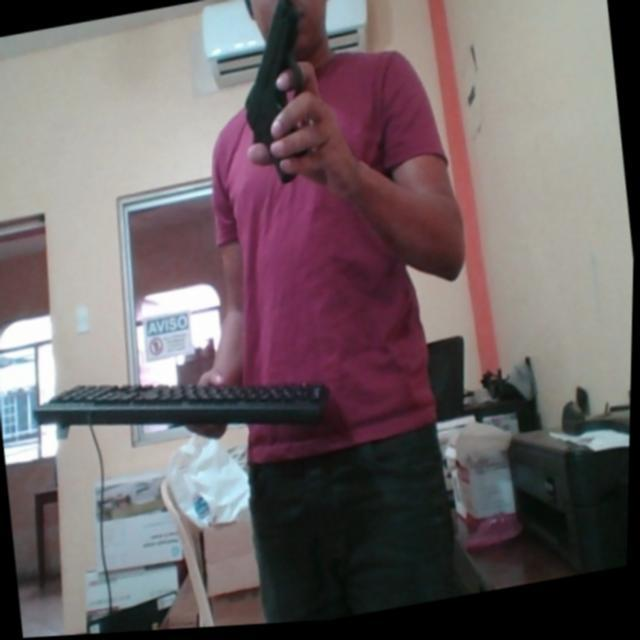weapon: (228, 0, 322, 195)
